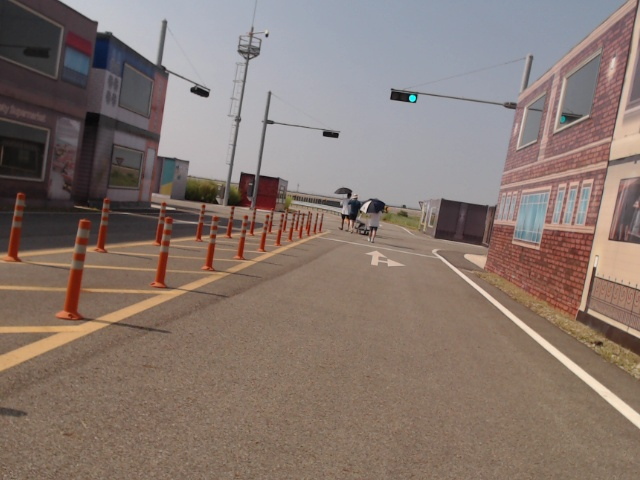green_3: (390, 90, 417, 104)
